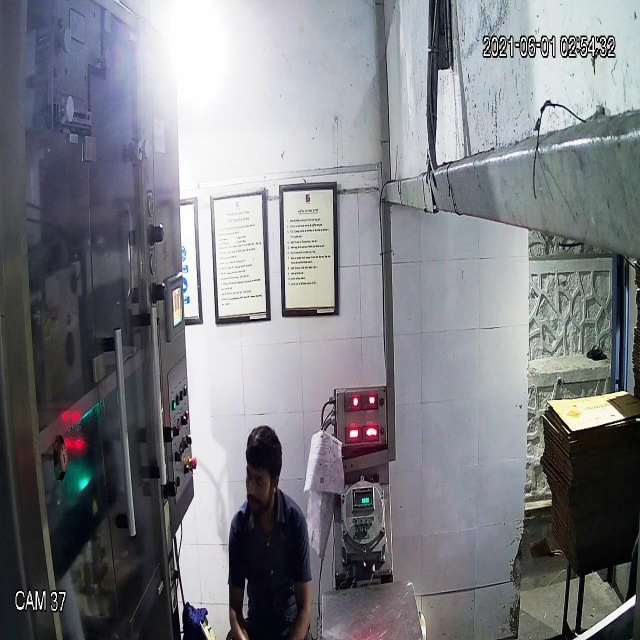Sin_gafas: (239, 464, 279, 498)
